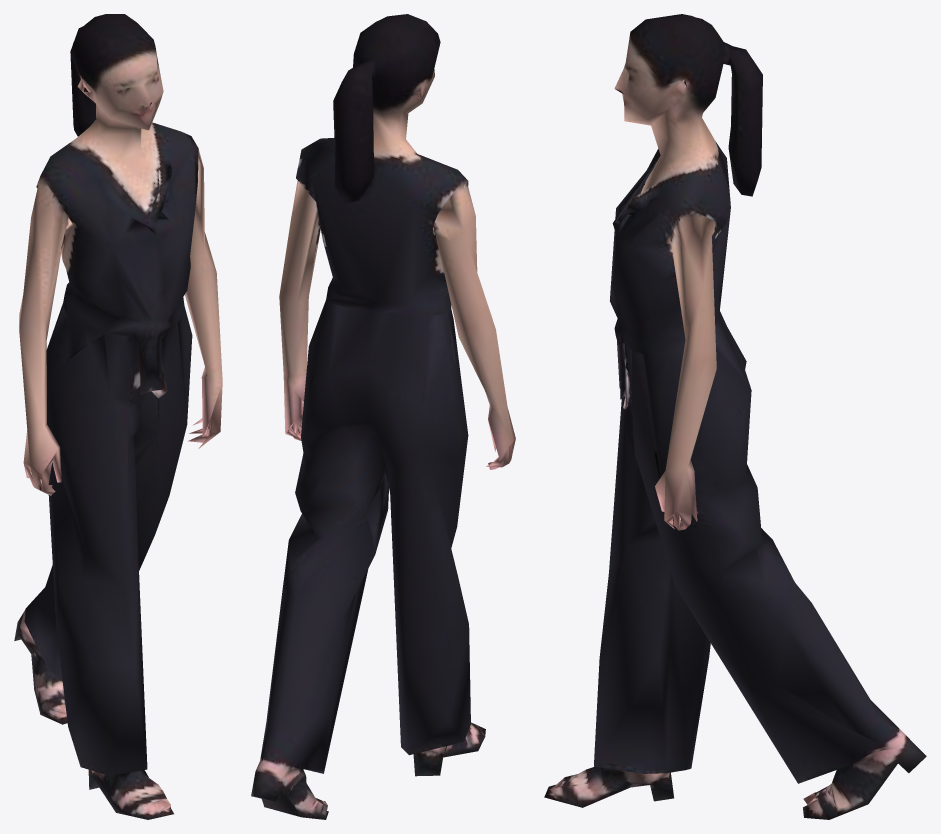
File: extra-woman-4.glb
The picture shows the model from 3 angles, left to right: view 1: azimuth 30°, elevation 25°; view 2: azimuth 150°, elevation 25°; view 3: azimuth 270°, elevation 25°; orthographic projection. The views are drawn at different scales.
Parts seen in each view (by area): view 1: Mesh_0; view 2: Mesh_0; view 3: Mesh_0.
Boxes of the visible parts, x1,y1,x2,y2 form: Mesh_0: (14, 14, 222, 819); Mesh_0: (251, 14, 515, 819); Mesh_0: (544, 14, 926, 819).
Size of the model in its own units: 0.5544 by 1.9 by 0.8337.
Materials: 1 (1 with a texture image).
